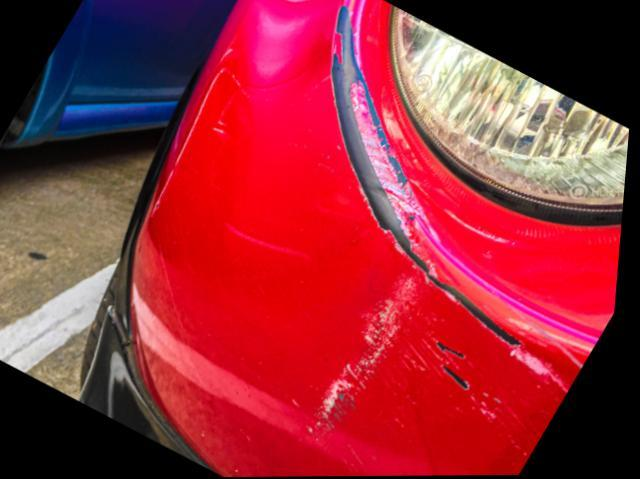scratch: (292, 0, 594, 476), (143, 52, 239, 233)
